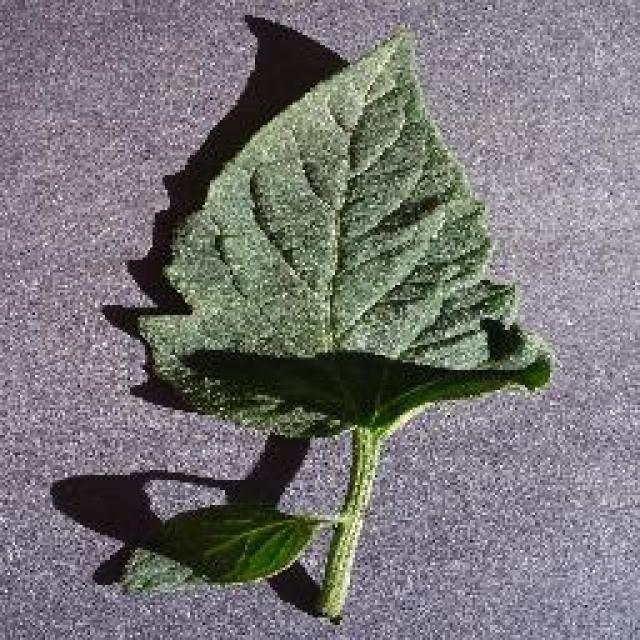healthy: (127, 36, 564, 618)
